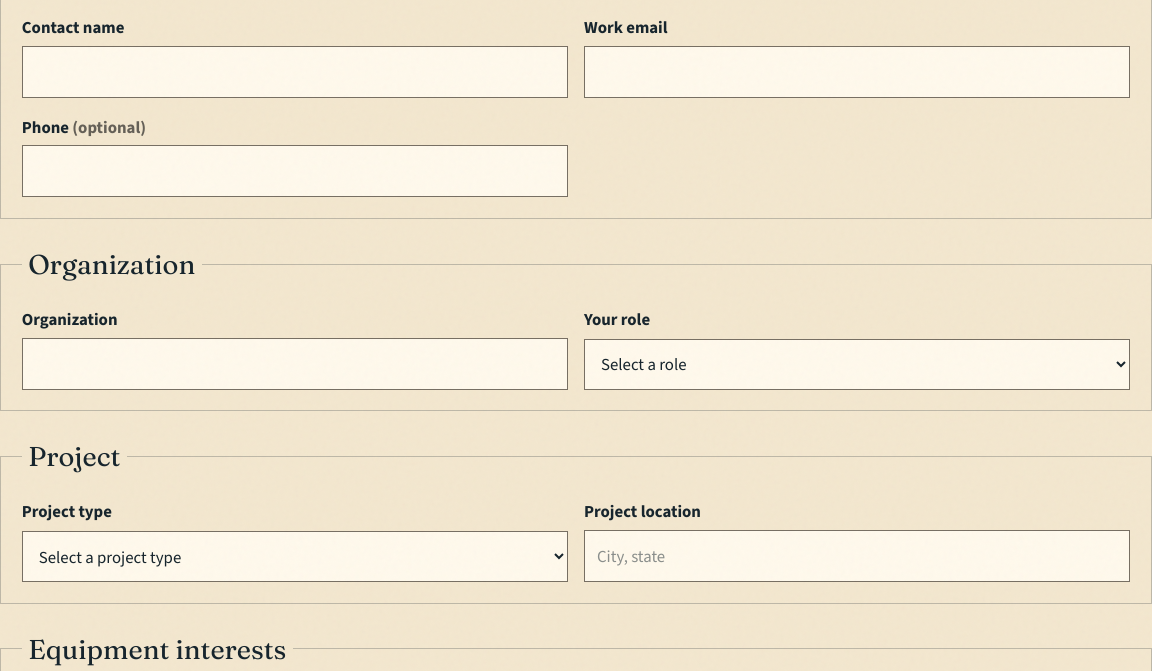
Test: QuoteForm › links empty submission errors and preserves entered values
The image size is (1152, 671).
Type "Nora Ellis" into the field labelled "Contact name" at (295, 72), box x1=22 y1=46 x2=568 y2=98
(page scrolled)
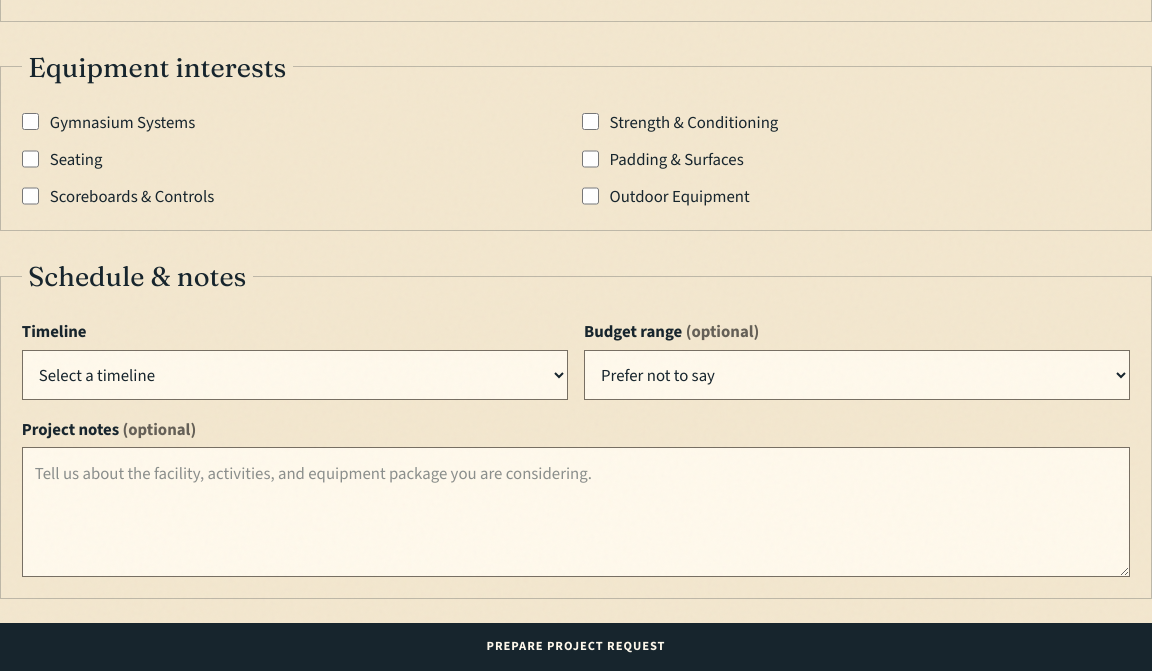
Click the button "Prepare Project Request" at (576, 647), box x1=0 y1=623 x2=1151 y2=670
(page scrolled)
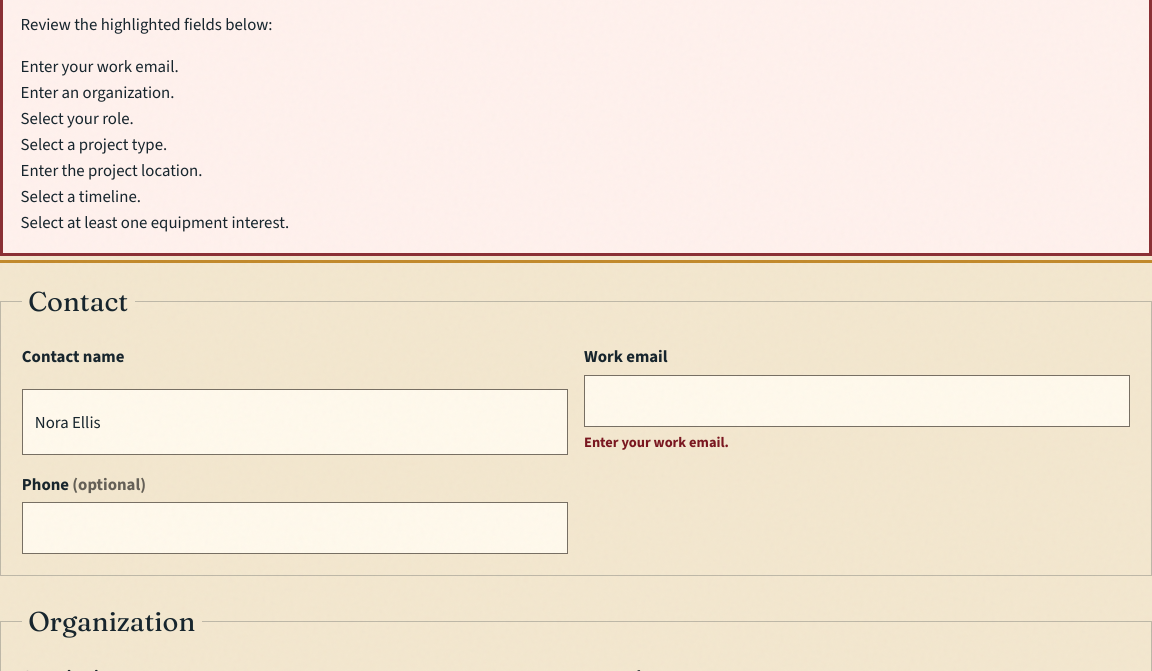
Now the number of links "Enter your work email." is 2, box x1=21 y1=55 x2=179 y2=77; x1=584 y1=433 x2=729 y2=452
